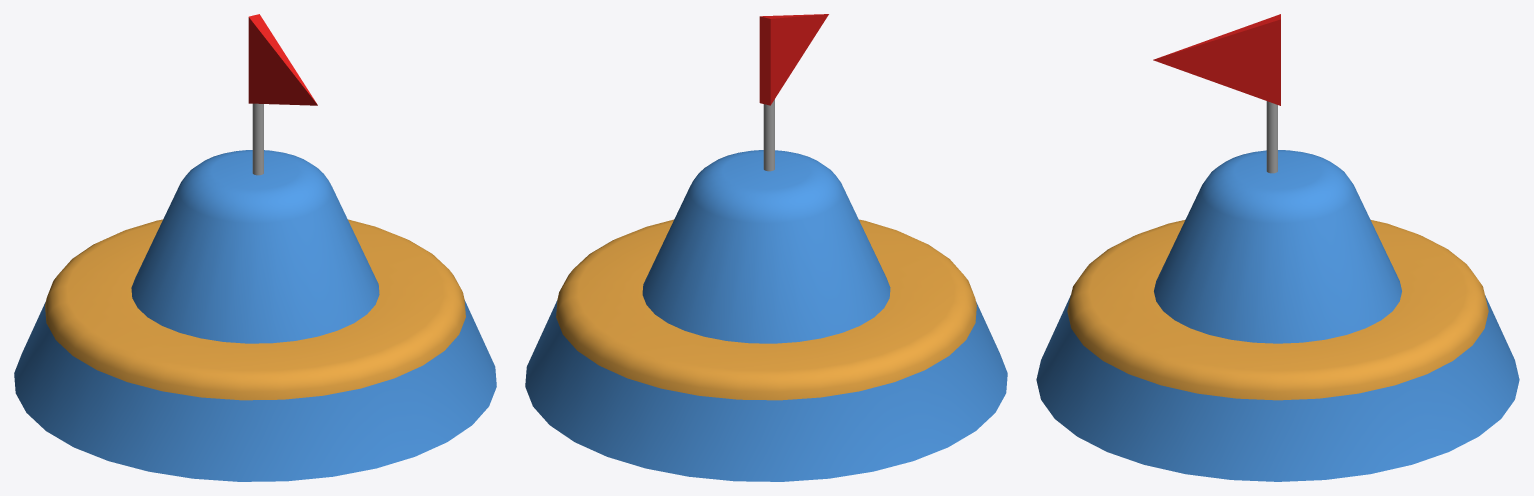
Rendered from ayiTezgah.fbx.
3 views of the same model, side by side, from view 1: azimuth 30°, elevation 25°; view 2: azimuth 150°, elevation 25°; view 3: azimuth 270°, elevation 25° (orthographic).
Visible parts, largest first — view 1: ayiTezgah; view 2: ayiTezgah; view 3: ayiTezgah.
Boxes of the visible parts, x1,y1,x2,y2 form: ayiTezgah: [14, 14, 496, 481]; ayiTezgah: [525, 14, 1007, 481]; ayiTezgah: [1036, 14, 1519, 481].
Bounding box in the file's own units: 784 × 650 × 784.
